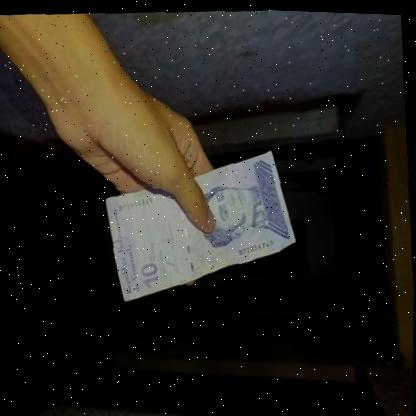ten-front-vef: (102, 142, 301, 308)
